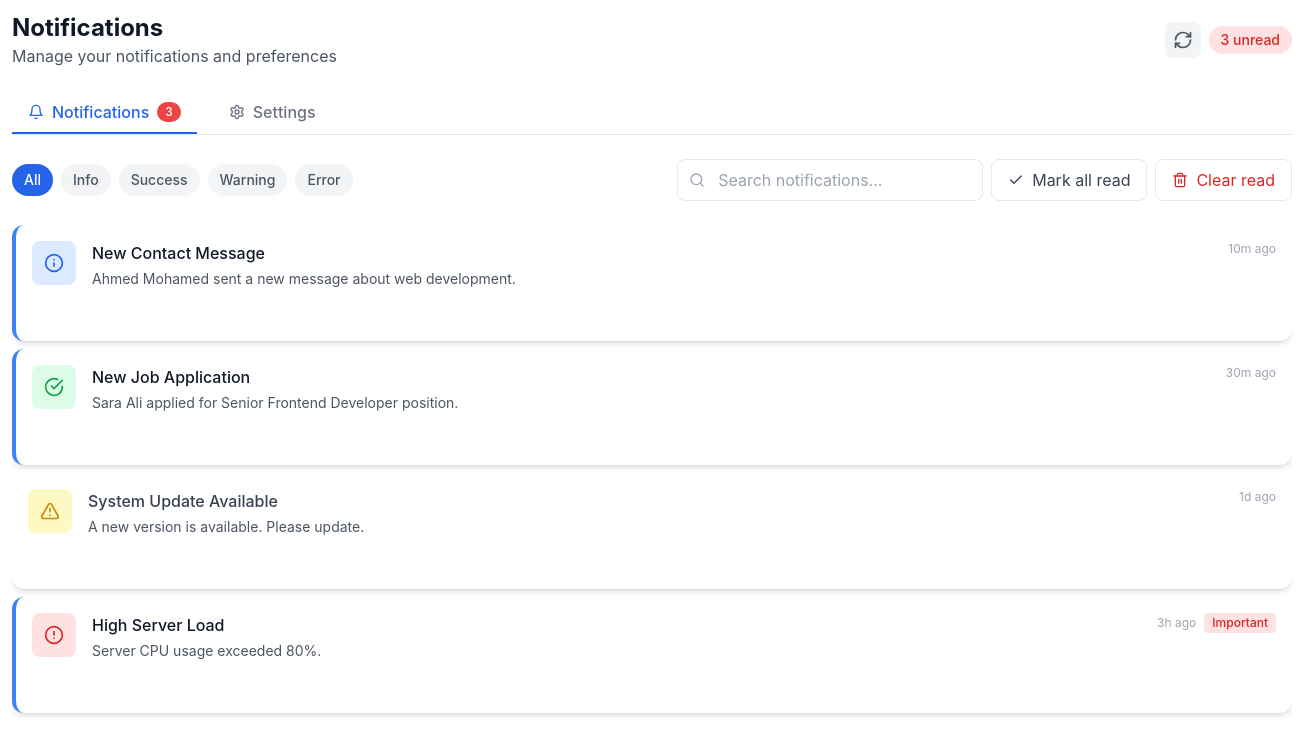
Notifications Page › Settings Tab › switches to settings tab
Expected: the text "Settings" is shown, top-left (229, 100), bottom-right (316, 124)
Click the button "Settings": {"x": 272, "y": 113} top-left (213, 92), bottom-right (332, 134)
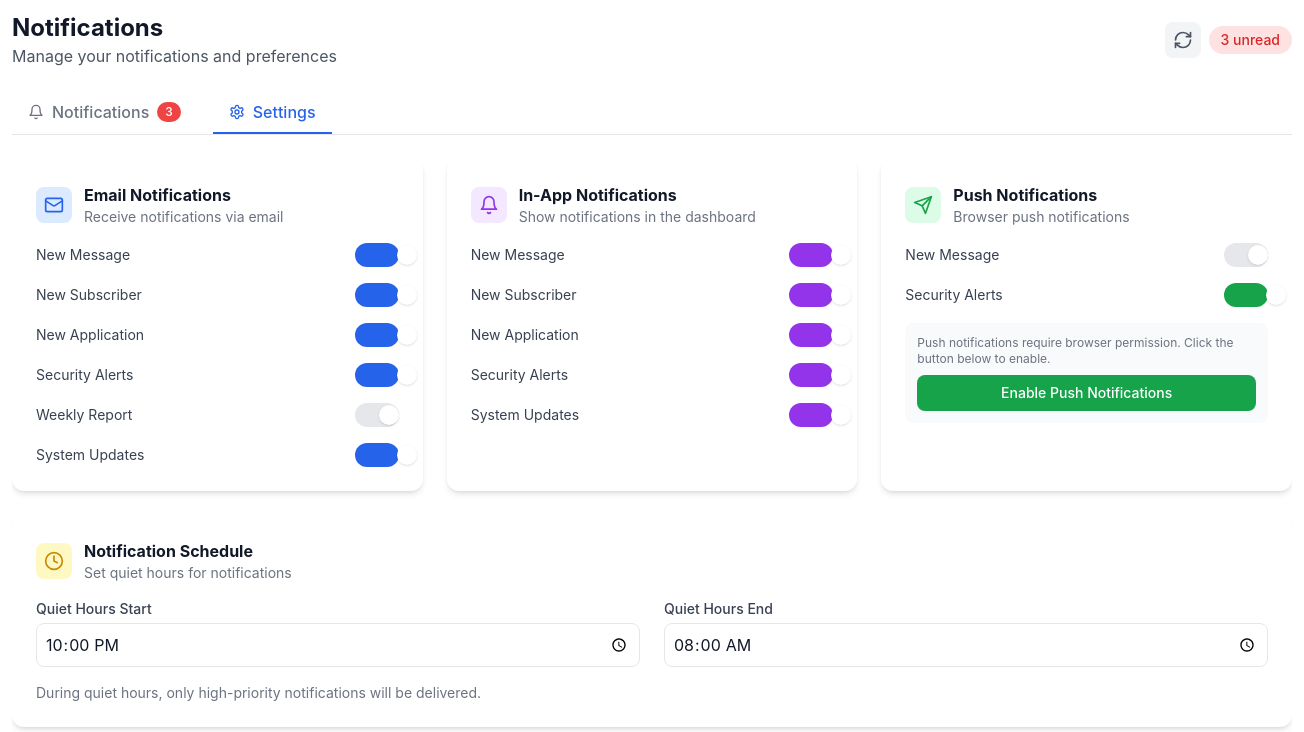
Now the heading "Email Notifications" is shown, box top-left (84, 185), bottom-right (231, 205)
Now the heading "In-App Notifications" is shown, box top-left (519, 185), bottom-right (677, 205)
Now the heading "Push Notifications" is shown, box top-left (953, 185), bottom-right (1097, 205)
